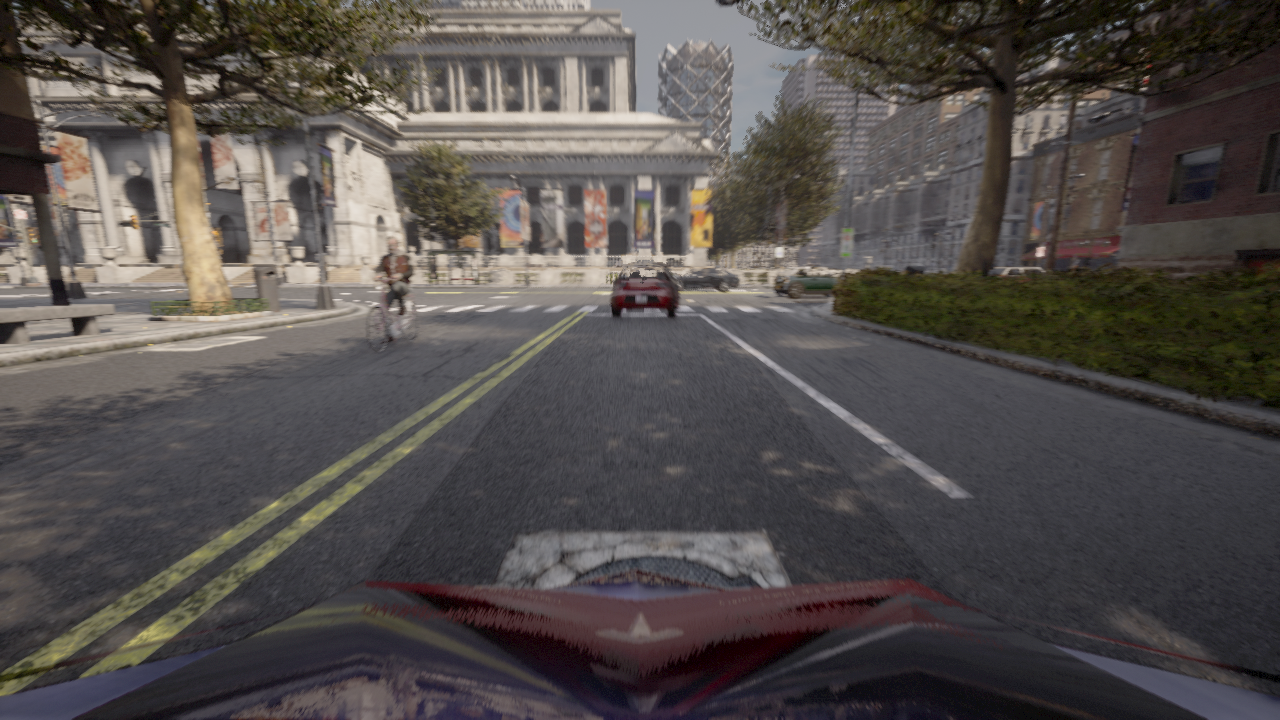cyclist: (0, 569, 1279, 719), (367, 277, 417, 353), (611, 263, 679, 317), (772, 267, 839, 298), (675, 267, 740, 291), (988, 267, 1044, 281)
